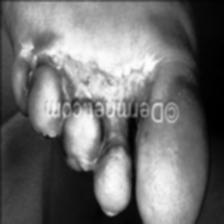Toxin: (21, 36, 163, 94), (86, 126, 127, 172)
